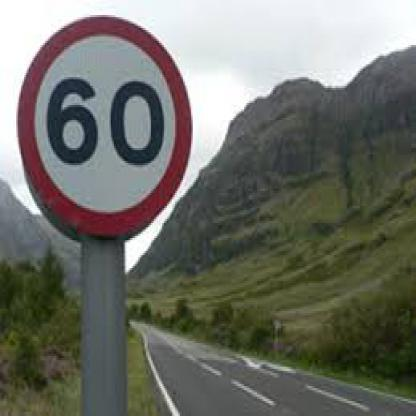Speed Limit 60: (20, 15, 193, 233)
